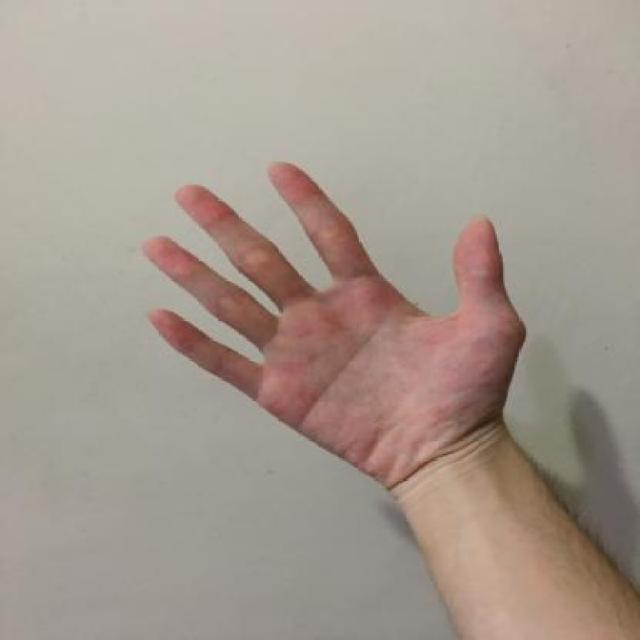no_glove: (130, 153, 536, 504)
